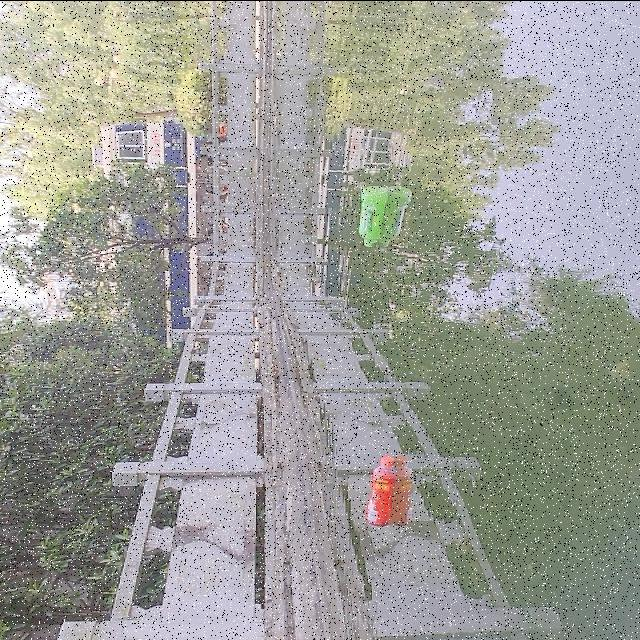Bottle: (350, 440, 416, 532), (346, 176, 414, 257)
